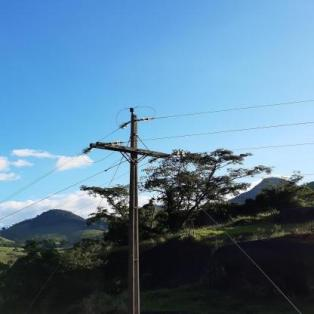Poste: (125, 109, 144, 314)
